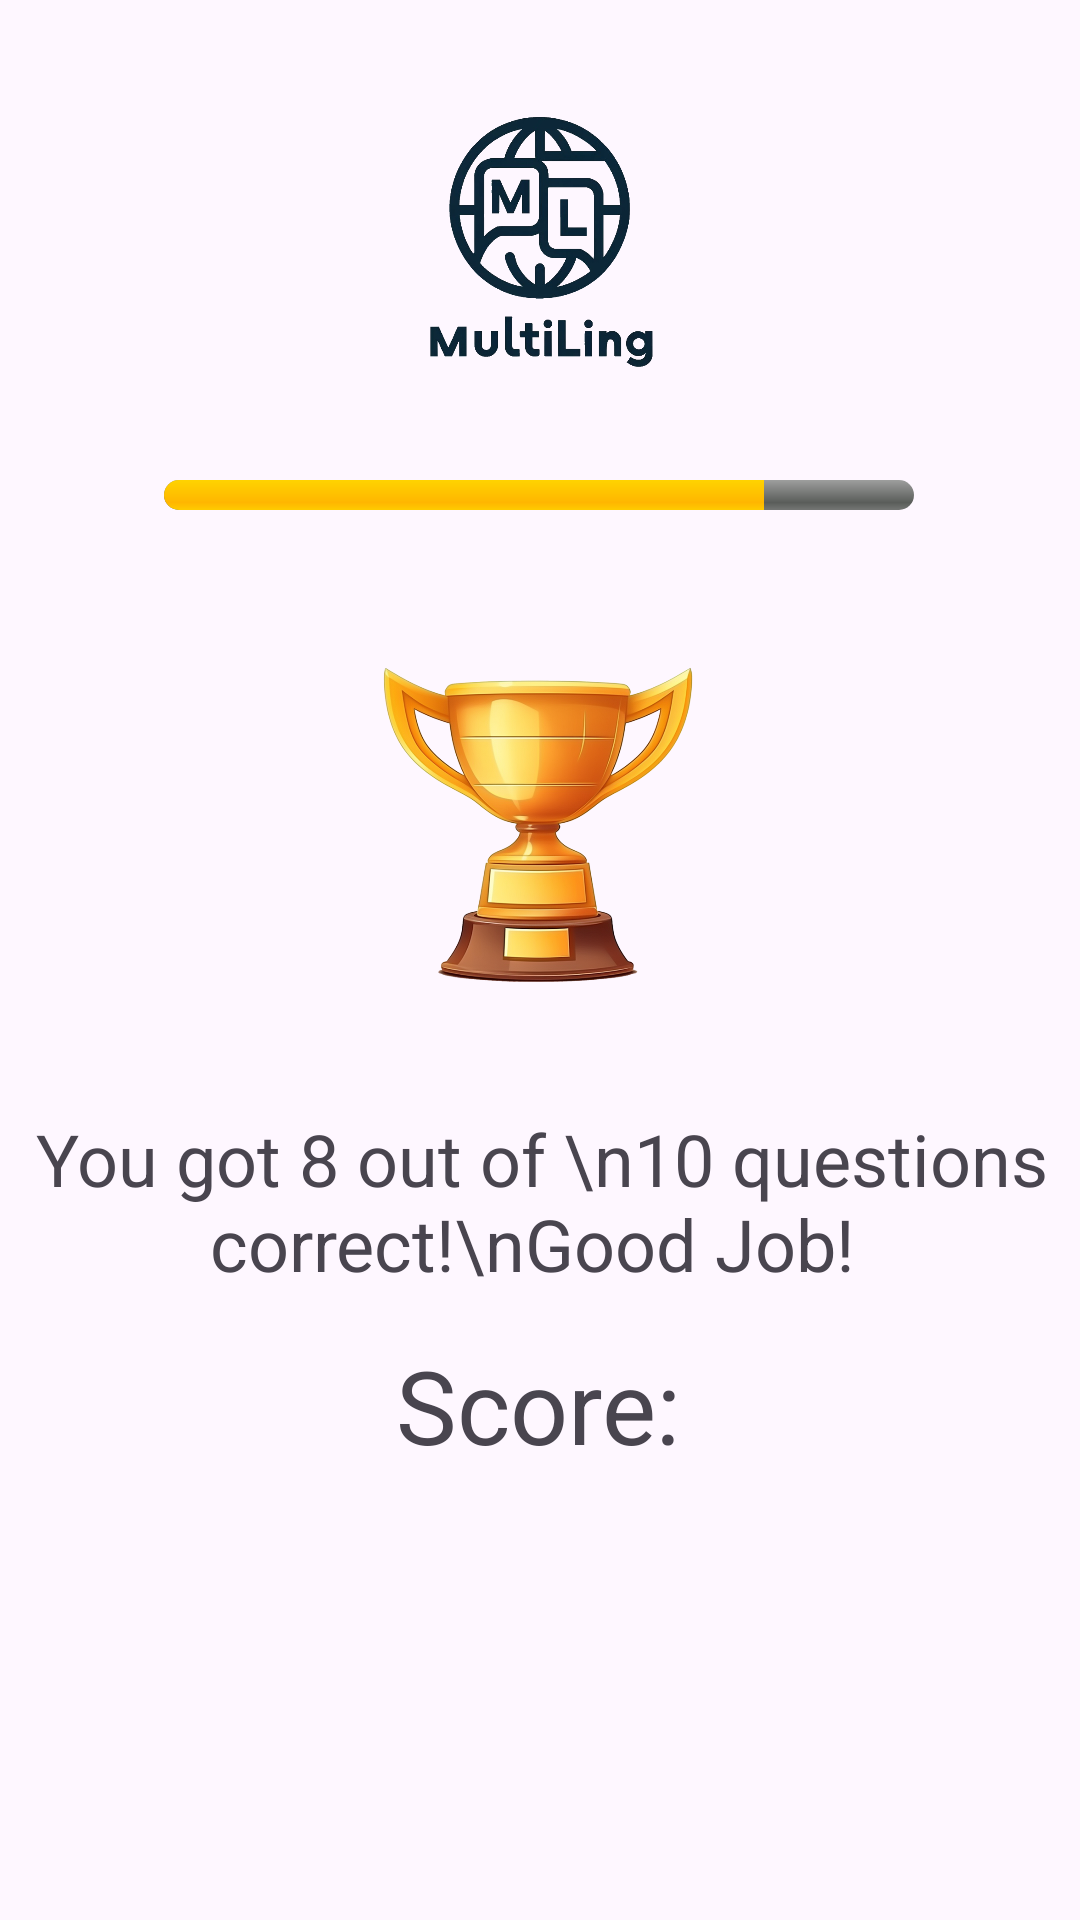

Point at icon controls on the screen. Image size 1080 × 1920, points as point (x, y).
trophy: point (538, 825)
